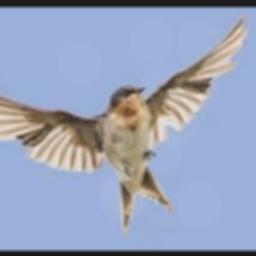Swallow: (0, 14, 246, 237)
